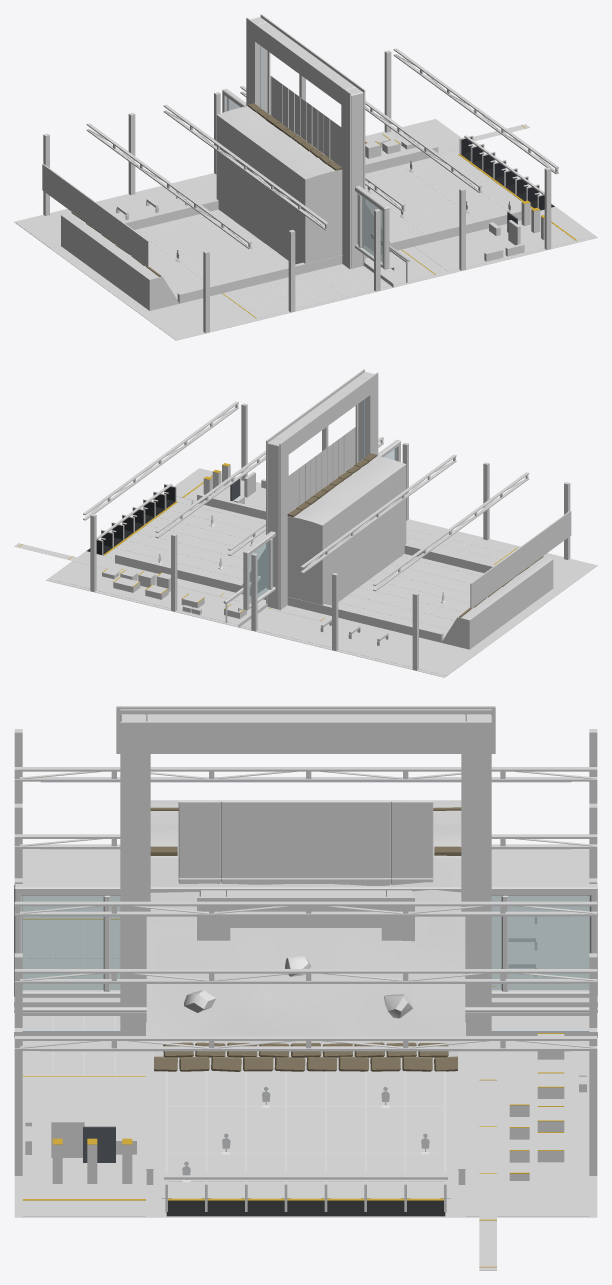
File: Range.fbx
3 renders of one model, top to bottom at view 1: azimuth 30°, elevation 25°; view 2: azimuth 150°, elevation 25°; view 3: azimuth 270°, elevation 25°, orthographic. The views are drawn at different scales.
Visible parts, largest first — view 1: Berm_Earth, ScaleModel_RangeFloor, ScaleModel_SteelBlack, ScaleModel_ConcreteBoard, ScaleModel_LaneLight, RangeFrame_Plates, ScaleModelYards_AbilityFloor, ScaleModelYards_CourseFloor, ScaleModel_BermEarth, ScaleModelYards_ConcreteDark, RangeFrame_Steel, ScaleModel_LinePaint (+11 smaller); view 2: Berm_Earth, ScaleModel_RangeFloor, ScaleModel_SteelBlack, ScaleModelYards_CourseFloor, ScaleModel_ConcreteBoard, ScaleModel_LaneLight, RangeFrame_Plates, ScaleModel_BermEarth, RangeFrame_Steel, ScaleModelYards_ConcreteBoard, ScaleModelYards_AbilityFloor, ScaleModel_LinePaint (+10 smaller); view 3: Berm_Earth, ScaleModel_SteelBlack, RangeFrame_Plates, ScaleModel_RangeFloor, ScaleModelYards_CourseFloor, ScaleModel_LaneLight, ViewingWindow_Glass, ScaleModelYards_ConcreteDark, RangeWallPanel_BoardA, ScaleModelYards_AbilityFloor, ViewingWindow_Frame, Berm_Bags (+22 smaller).
Part boxes in pixels (<box>): Berm_Earth: <box>216,106,391,271</box>; ScaleModel_RangeFloor: <box>14,119,597,340</box>; ScaleModel_SteelBlack: <box>42,48,558,267</box>; ScaleModel_ConcreteBoard: <box>43,50,551,333</box>; ScaleModel_LaneLight: <box>138,155,531,298</box>; RangeFrame_Plates: <box>246,14,365,269</box>; ScaleModelYards_AbilityFloor: <box>223,250,434,318</box>; ScaleModelYards_CourseFloor: <box>16,120,461,248</box>; ScaleModel_BermEarth: <box>61,212,179,310</box>; ScaleModelYards_ConcreteDark: <box>414,211,594,271</box>; RangeFrame_Steel: <box>250,17,363,268</box>; ScaleModel_LinePaint: <box>137,154,531,298</box>; Berm_Earth: <box>240,456,406,606</box>; ScaleModel_RangeFloor: <box>46,468,597,677</box>; ScaleModel_SteelBlack: <box>83,401,571,608</box>; ScaleModelYards_CourseFloor: <box>49,555,478,675</box>; ScaleModel_ConcreteBoard: <box>90,403,570,670</box>; ScaleModel_LaneLight: <box>106,502,479,637</box>; RangeFrame_Plates: <box>266,369,378,609</box>; ScaleModel_BermEarth: <box>442,556,553,649</box>; RangeFrame_Steel: <box>267,372,374,609</box>; ScaleModelYards_ConcreteBoard: <box>102,465,255,618</box>; ScaleModelYards_AbilityFloor: <box>406,520,516,564</box>; ScaleModel_LinePaint: <box>104,501,480,638</box>; Berm_Earth: <box>146,824,465,1070</box>; ScaleModel_SteelBlack: <box>14,706,597,1212</box>; RangeFrame_Plates: <box>120,709,491,1035</box>; ScaleModel_RangeFloor: <box>14,849,597,1217</box>; ScaleModelYards_CourseFloor: <box>466,849,589,1216</box>; ScaleModel_LaneLight: <box>168,1070,443,1198</box>; ViewingWindow_Glass: <box>22,895,589,990</box>; ScaleModelYards_ConcreteDark: <box>22,1087,145,1216</box>; RangeWallPanel_BoardA: <box>178,801,390,884</box>; ScaleModelYards_AbilityFloor: <box>22,919,145,1075</box>; ViewingWindow_Frame: <box>14,884,597,997</box>; Berm_Bags: <box>150,846,461,1071</box>.
Bounding box in the file's own units: 75.62 × 27.8 × 44.
